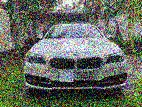car: (22, 17, 129, 97)
